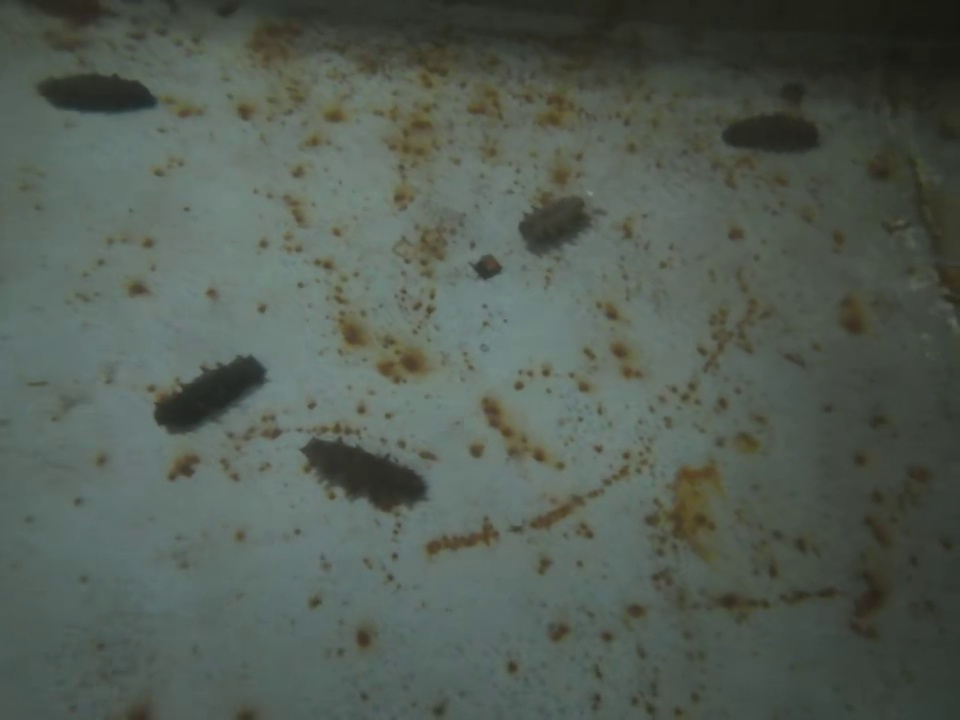seacucumber: (152, 351, 268, 435), (294, 435, 430, 504), (34, 72, 161, 115), (721, 111, 822, 154), (518, 195, 586, 244)
